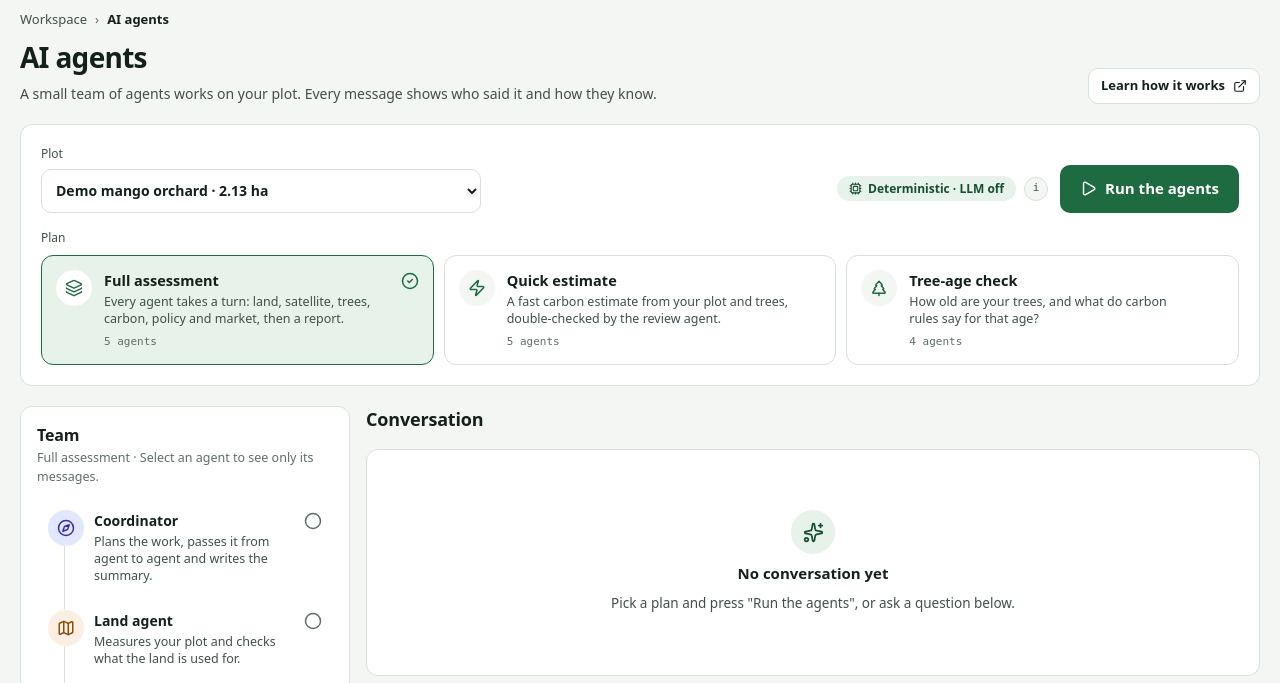
Test: AgentsPage › opens "How I know this" to show the tools and the sources
This screenshot has width=1280, height=683.
Click the button "Run the agents" at (1150, 188), box 1060,164 -> 1239,212
(page scrolled)
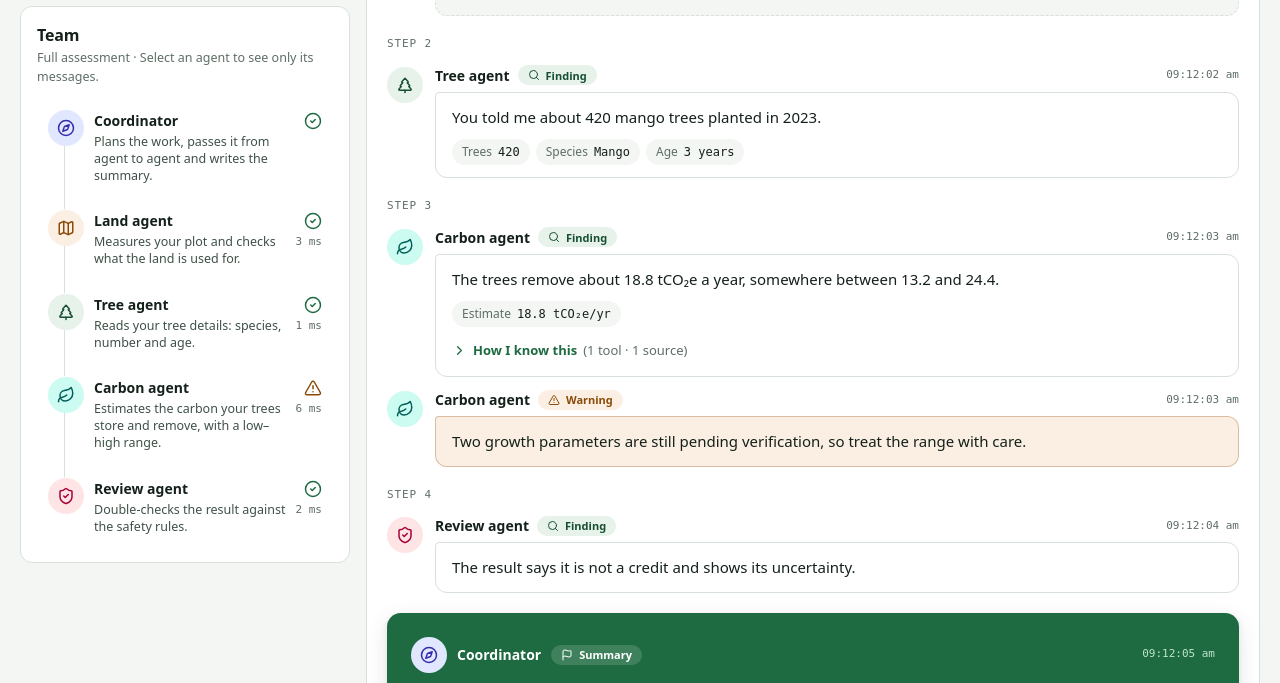
Click the button "How I know this (1 tool · 1 source)" at (570, 351), box 452,337 -> 688,364
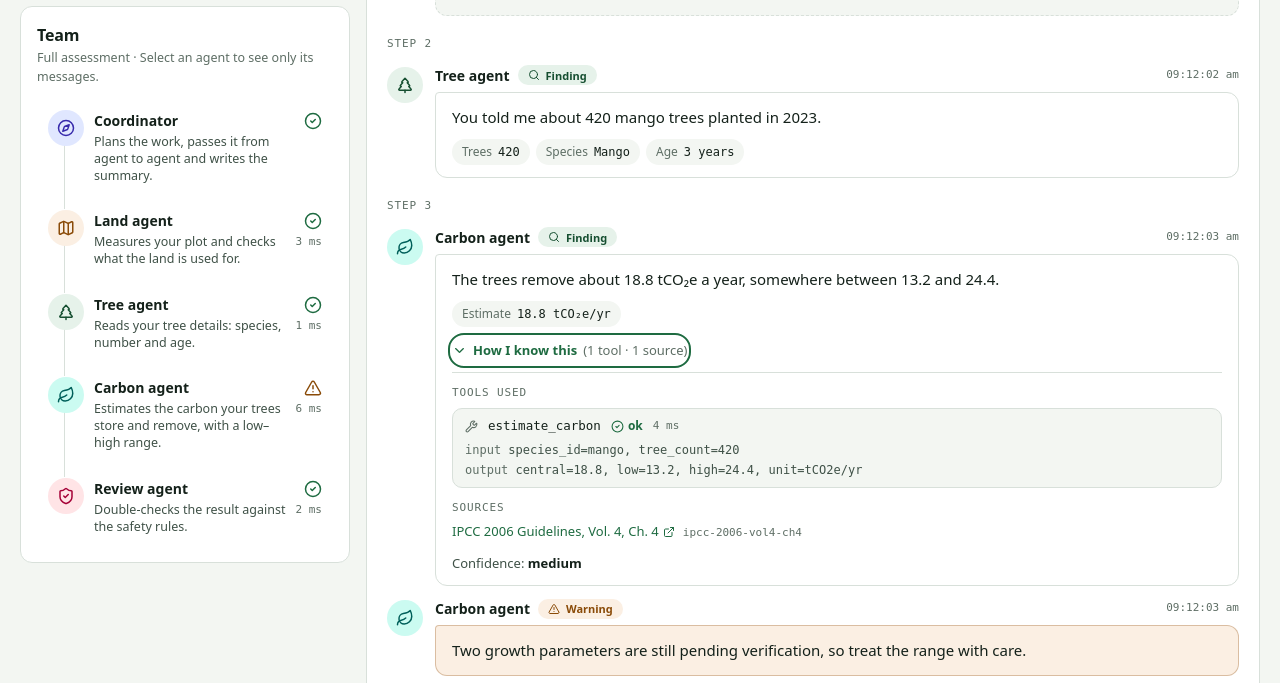
Result: the text "estimate_carbon" is shown at 488,417 -> 601,436
